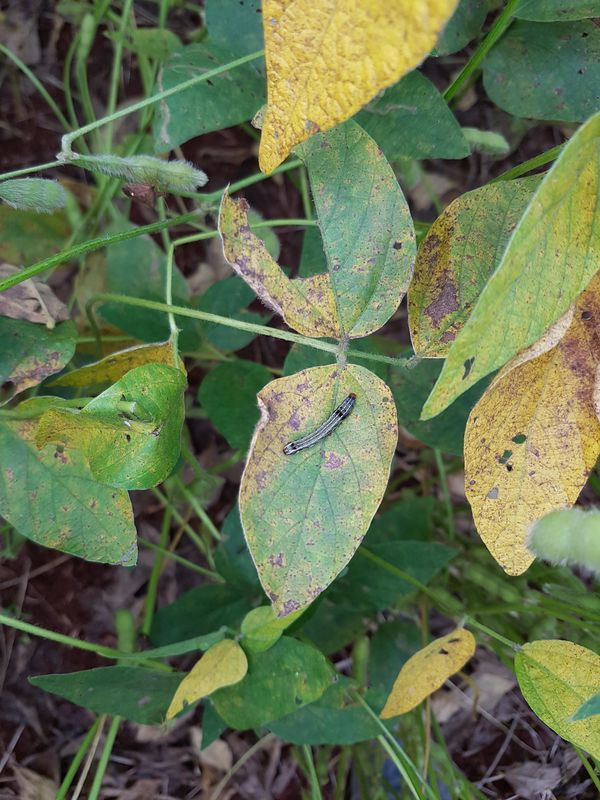Euschistus_heros_adulto: (110, 170, 164, 212)
Spodoptera_albula: (272, 385, 367, 467)
